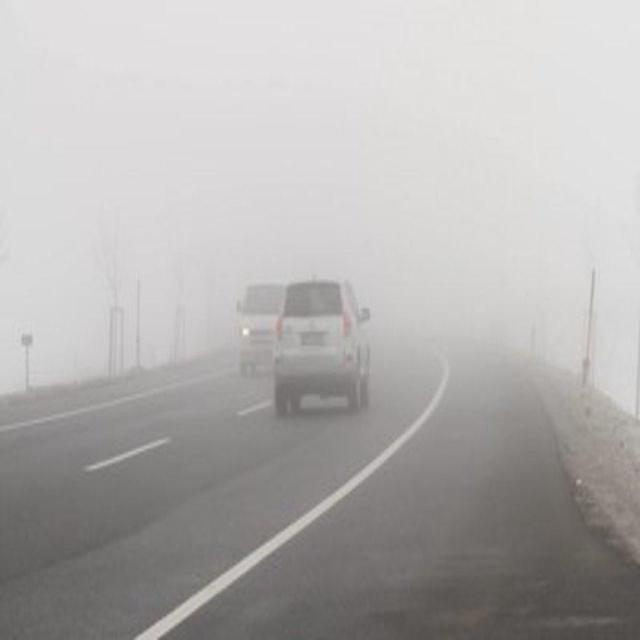Car: (271, 266, 370, 409)
Van: (234, 260, 283, 370)
